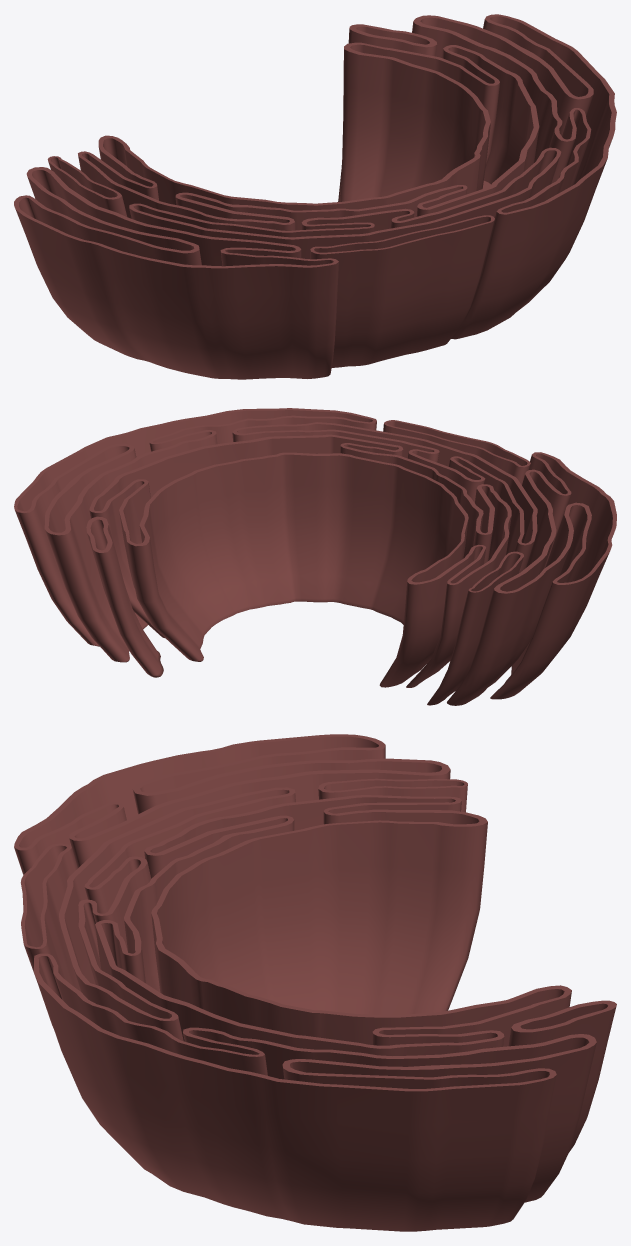
The model's file is Rough_Endoplasmic_Reticulum.FBX.
3 renders of one model, top to bottom at view 1: azimuth 30°, elevation 25°; view 2: azimuth 150°, elevation 25°; view 3: azimuth 270°, elevation 25°, orthographic. The views are drawn at different scales.
Visible parts, largest first — view 1: Endoplasmic_Reticulum_Endoplasmic_Reticulum_Cell; view 2: Endoplasmic_Reticulum_Endoplasmic_Reticulum_Cell; view 3: Endoplasmic_Reticulum_Endoplasmic_Reticulum_Cell.
Boxes of the visible parts, x1,y1,x2,y2 form: Endoplasmic_Reticulum_Endoplasmic_Reticulum_Cell: (14, 14, 616, 379); Endoplasmic_Reticulum_Endoplasmic_Reticulum_Cell: (14, 408, 616, 705); Endoplasmic_Reticulum_Endoplasmic_Reticulum_Cell: (14, 734, 616, 1231).
Bounding box in the file's own units: 96.29 × 23.52 × 68.7.
